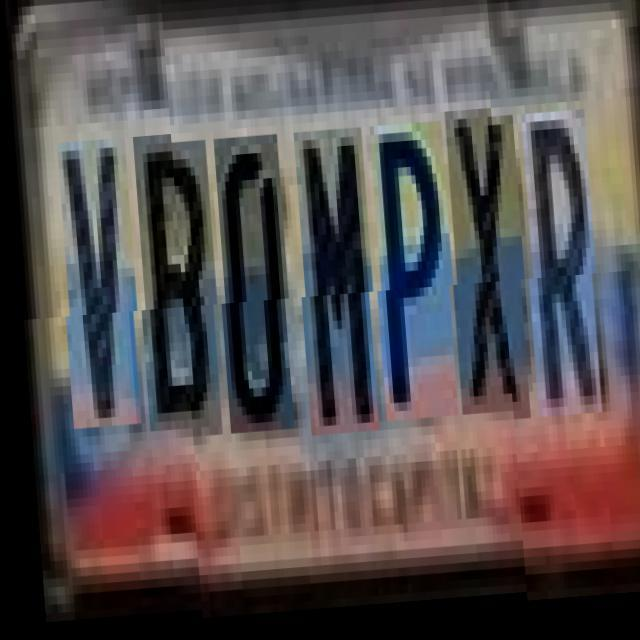0: (211, 138, 291, 436)
B: (131, 143, 220, 442)
M: (292, 133, 376, 440)
P: (366, 128, 456, 427)
R: (518, 110, 599, 418)
V: (56, 148, 140, 438)
X: (442, 115, 528, 422)
